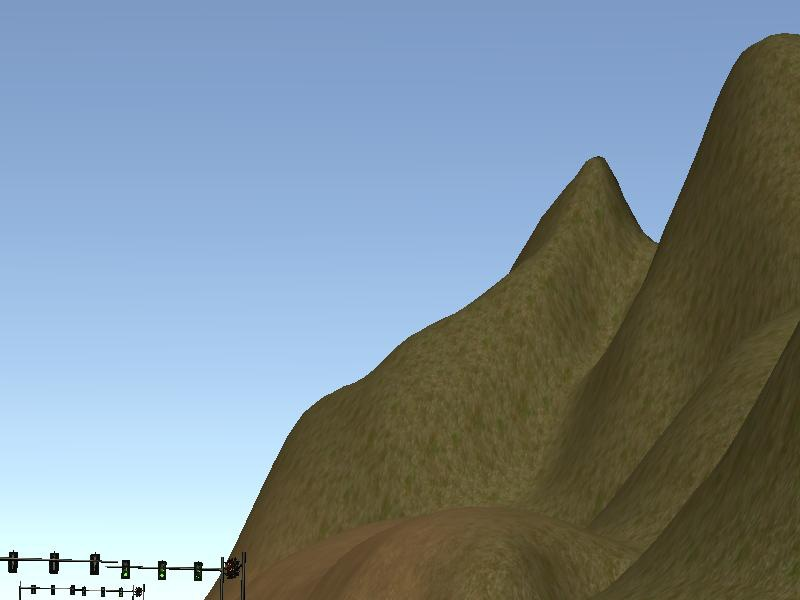Green: (122, 559, 130, 577), (158, 560, 166, 578)
Off: (194, 562, 202, 581)
